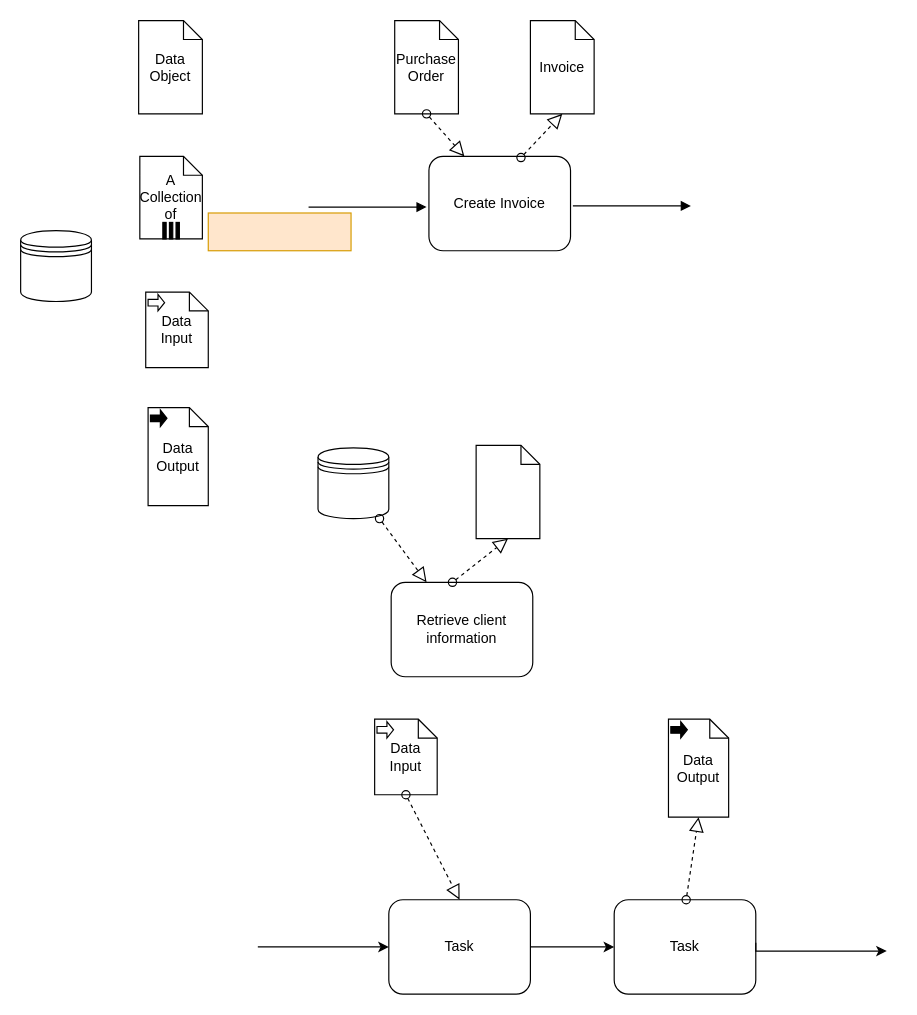
The diagram is 917 pixels wide and 1015 high, and some of its shapes have lost their labels. Here are the shapes that lost their labels. From the top down, the centre of each, then its label:
the point at 279,231: e.g. Table of Content List of Name
the point at 55,265: Data Store
the point at 353,483: Database
the point at 507,491: Client Info
